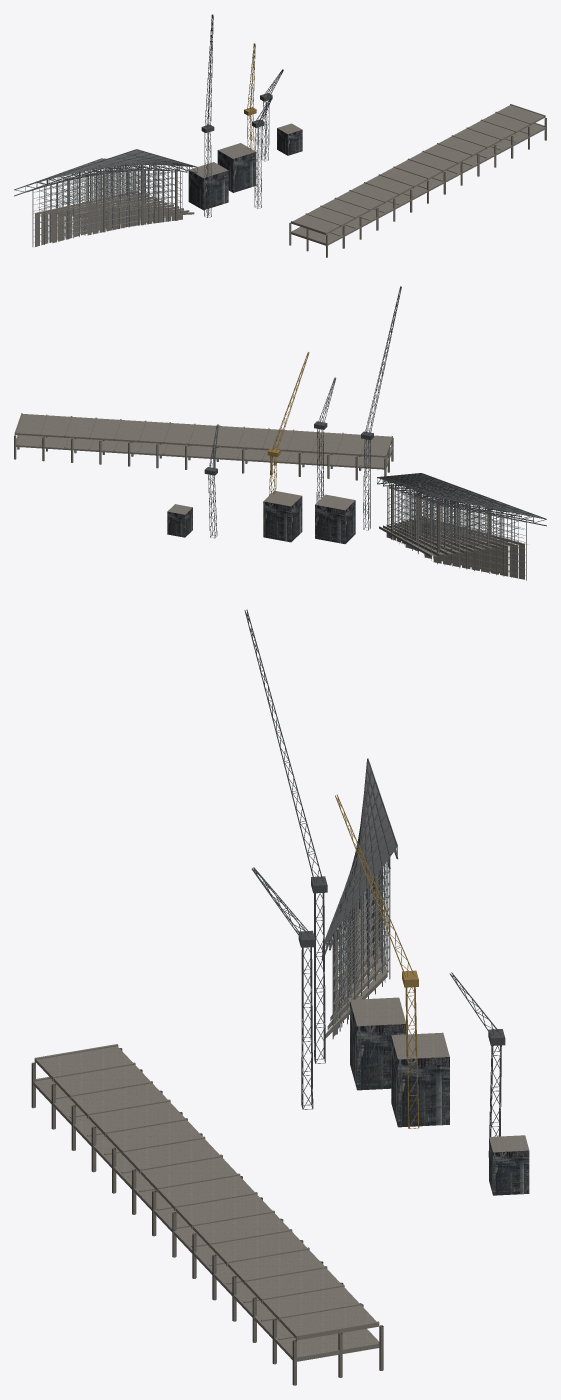
3 renders of one model, top to bottom at view 1: azimuth 30°, elevation 25°; view 2: azimuth 150°, elevation 25°; view 3: azimuth 270°, elevation 25°, orthographic. The views are drawn at different scales.
Visible parts, largest first — view 1: NS Square waterfront grandstand works; view 2: NS Square waterfront grandstand works; view 3: NS Square waterfront grandstand works.
Boxes of the visible parts, bbox=[...] form: NS Square waterfront grandstand works: bbox=[14, 14, 546, 257]; NS Square waterfront grandstand works: bbox=[14, 286, 546, 580]; NS Square waterfront grandstand works: bbox=[31, 609, 529, 1385].
Size of the model in its own units: 227 by 92.44 by 95.14.
Materials: 6 (6 with a texture image).
